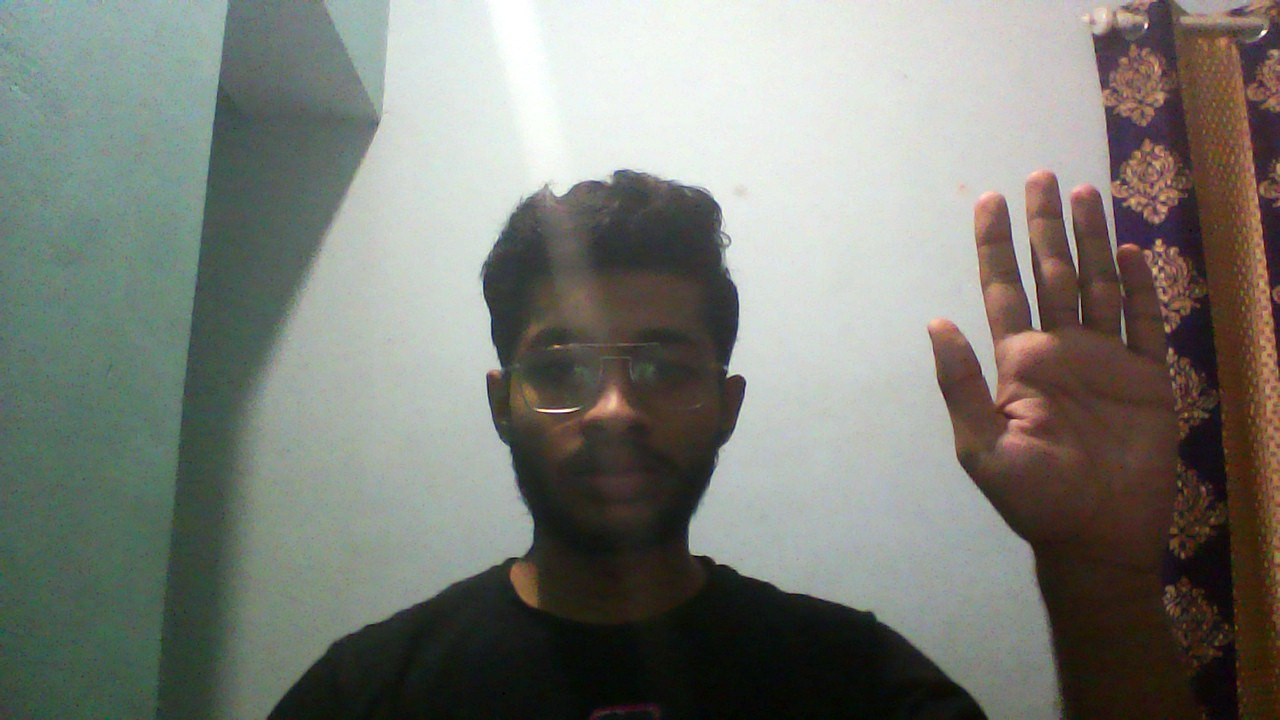Hello: (878, 95, 1228, 578)
